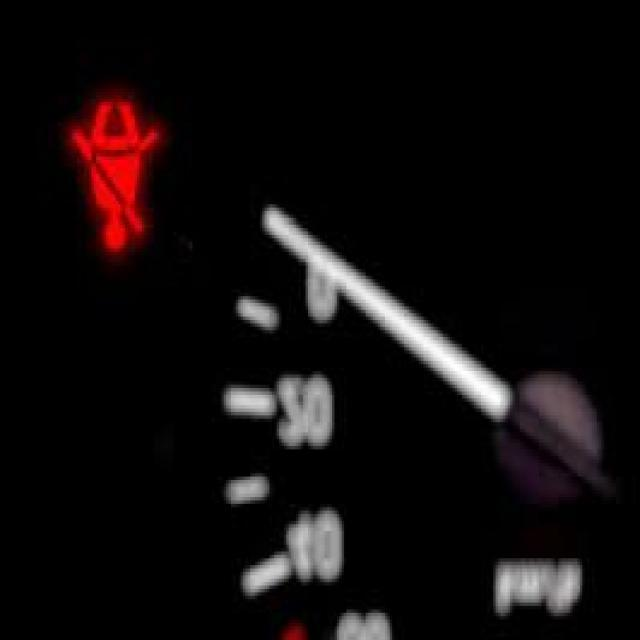Seat Belt: (72, 98, 162, 252)
